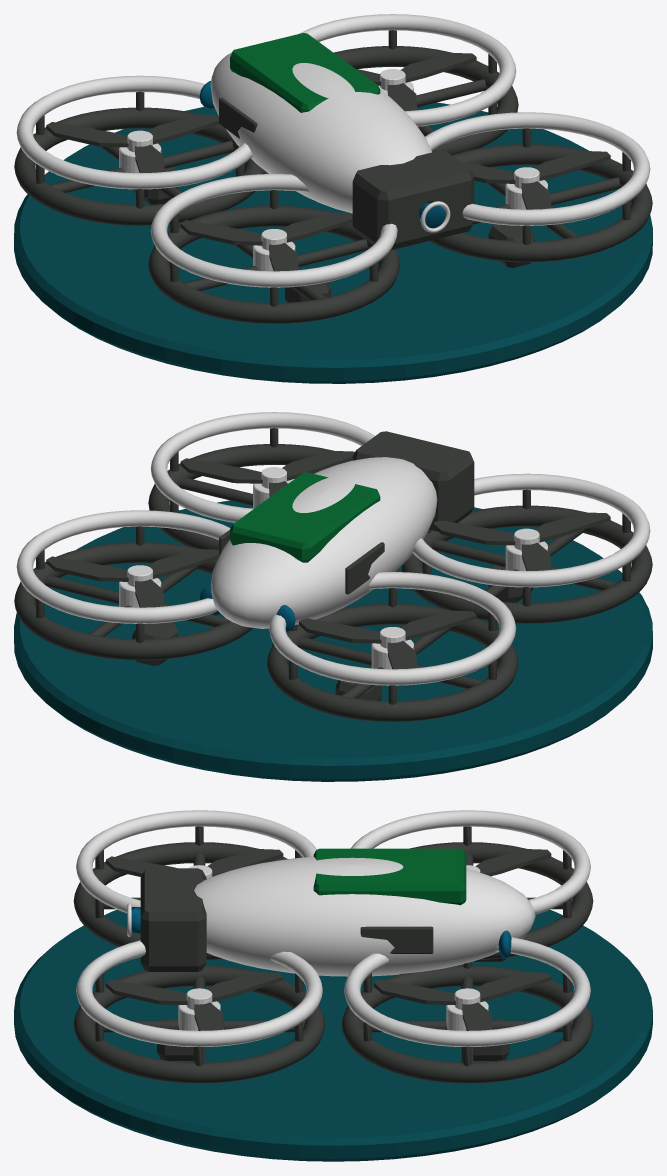
The model's file is dji-avata-2.glb.
3 views of the same model, one above another, from view 1: azimuth 30°, elevation 25°; view 2: azimuth 150°, elevation 25°; view 3: azimuth 270°, elevation 25° (orthographic).
Parts seen in each view (by area): view 1: body, pedestal; view 2: body, pedestal; view 3: body, pedestal.
Boxes of the visible parts, x1,y1,x2,y2 form: body: [14, 14, 652, 323]; pedestal: [14, 102, 652, 383]; body: [14, 412, 652, 721]; pedestal: [14, 500, 652, 781]; body: [73, 810, 593, 1083]; pedestal: [14, 910, 652, 1161].
Bounding box in the file's own units: 4.4 × 1.25 × 4.4.
